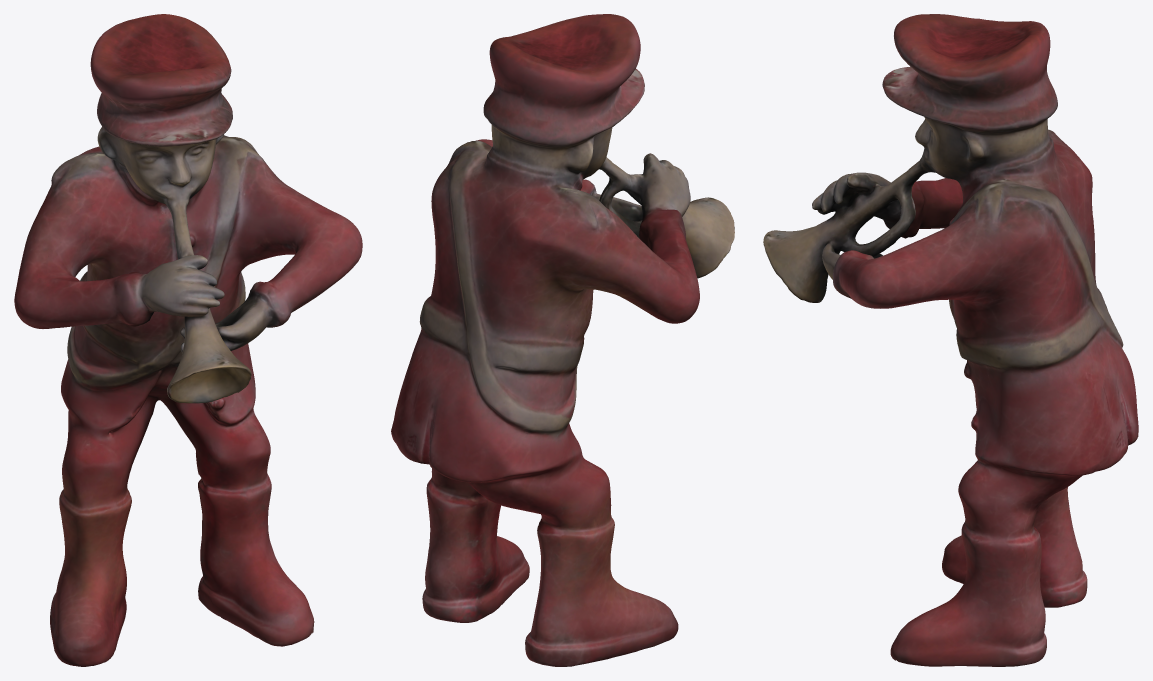
The model's file is khanna-bandwalla.glb.
The picture shows the model from 3 angles, left to right: view 1: azimuth 30°, elevation 25°; view 2: azimuth 150°, elevation 25°; view 3: azimuth 270°, elevation 25°; orthographic projection.
Parts seen in each view (by area): view 1: Mesh; view 2: Mesh; view 3: Mesh.
Part boxes in pixels (<box>): Mesh: <box>14,14,362,666</box>; Mesh: <box>391,14,734,666</box>; Mesh: <box>763,14,1138,666</box>.
Bounding box in the file's own units: 0.2536 × 0.5 × 0.2895.
1 material, 1 textured.
